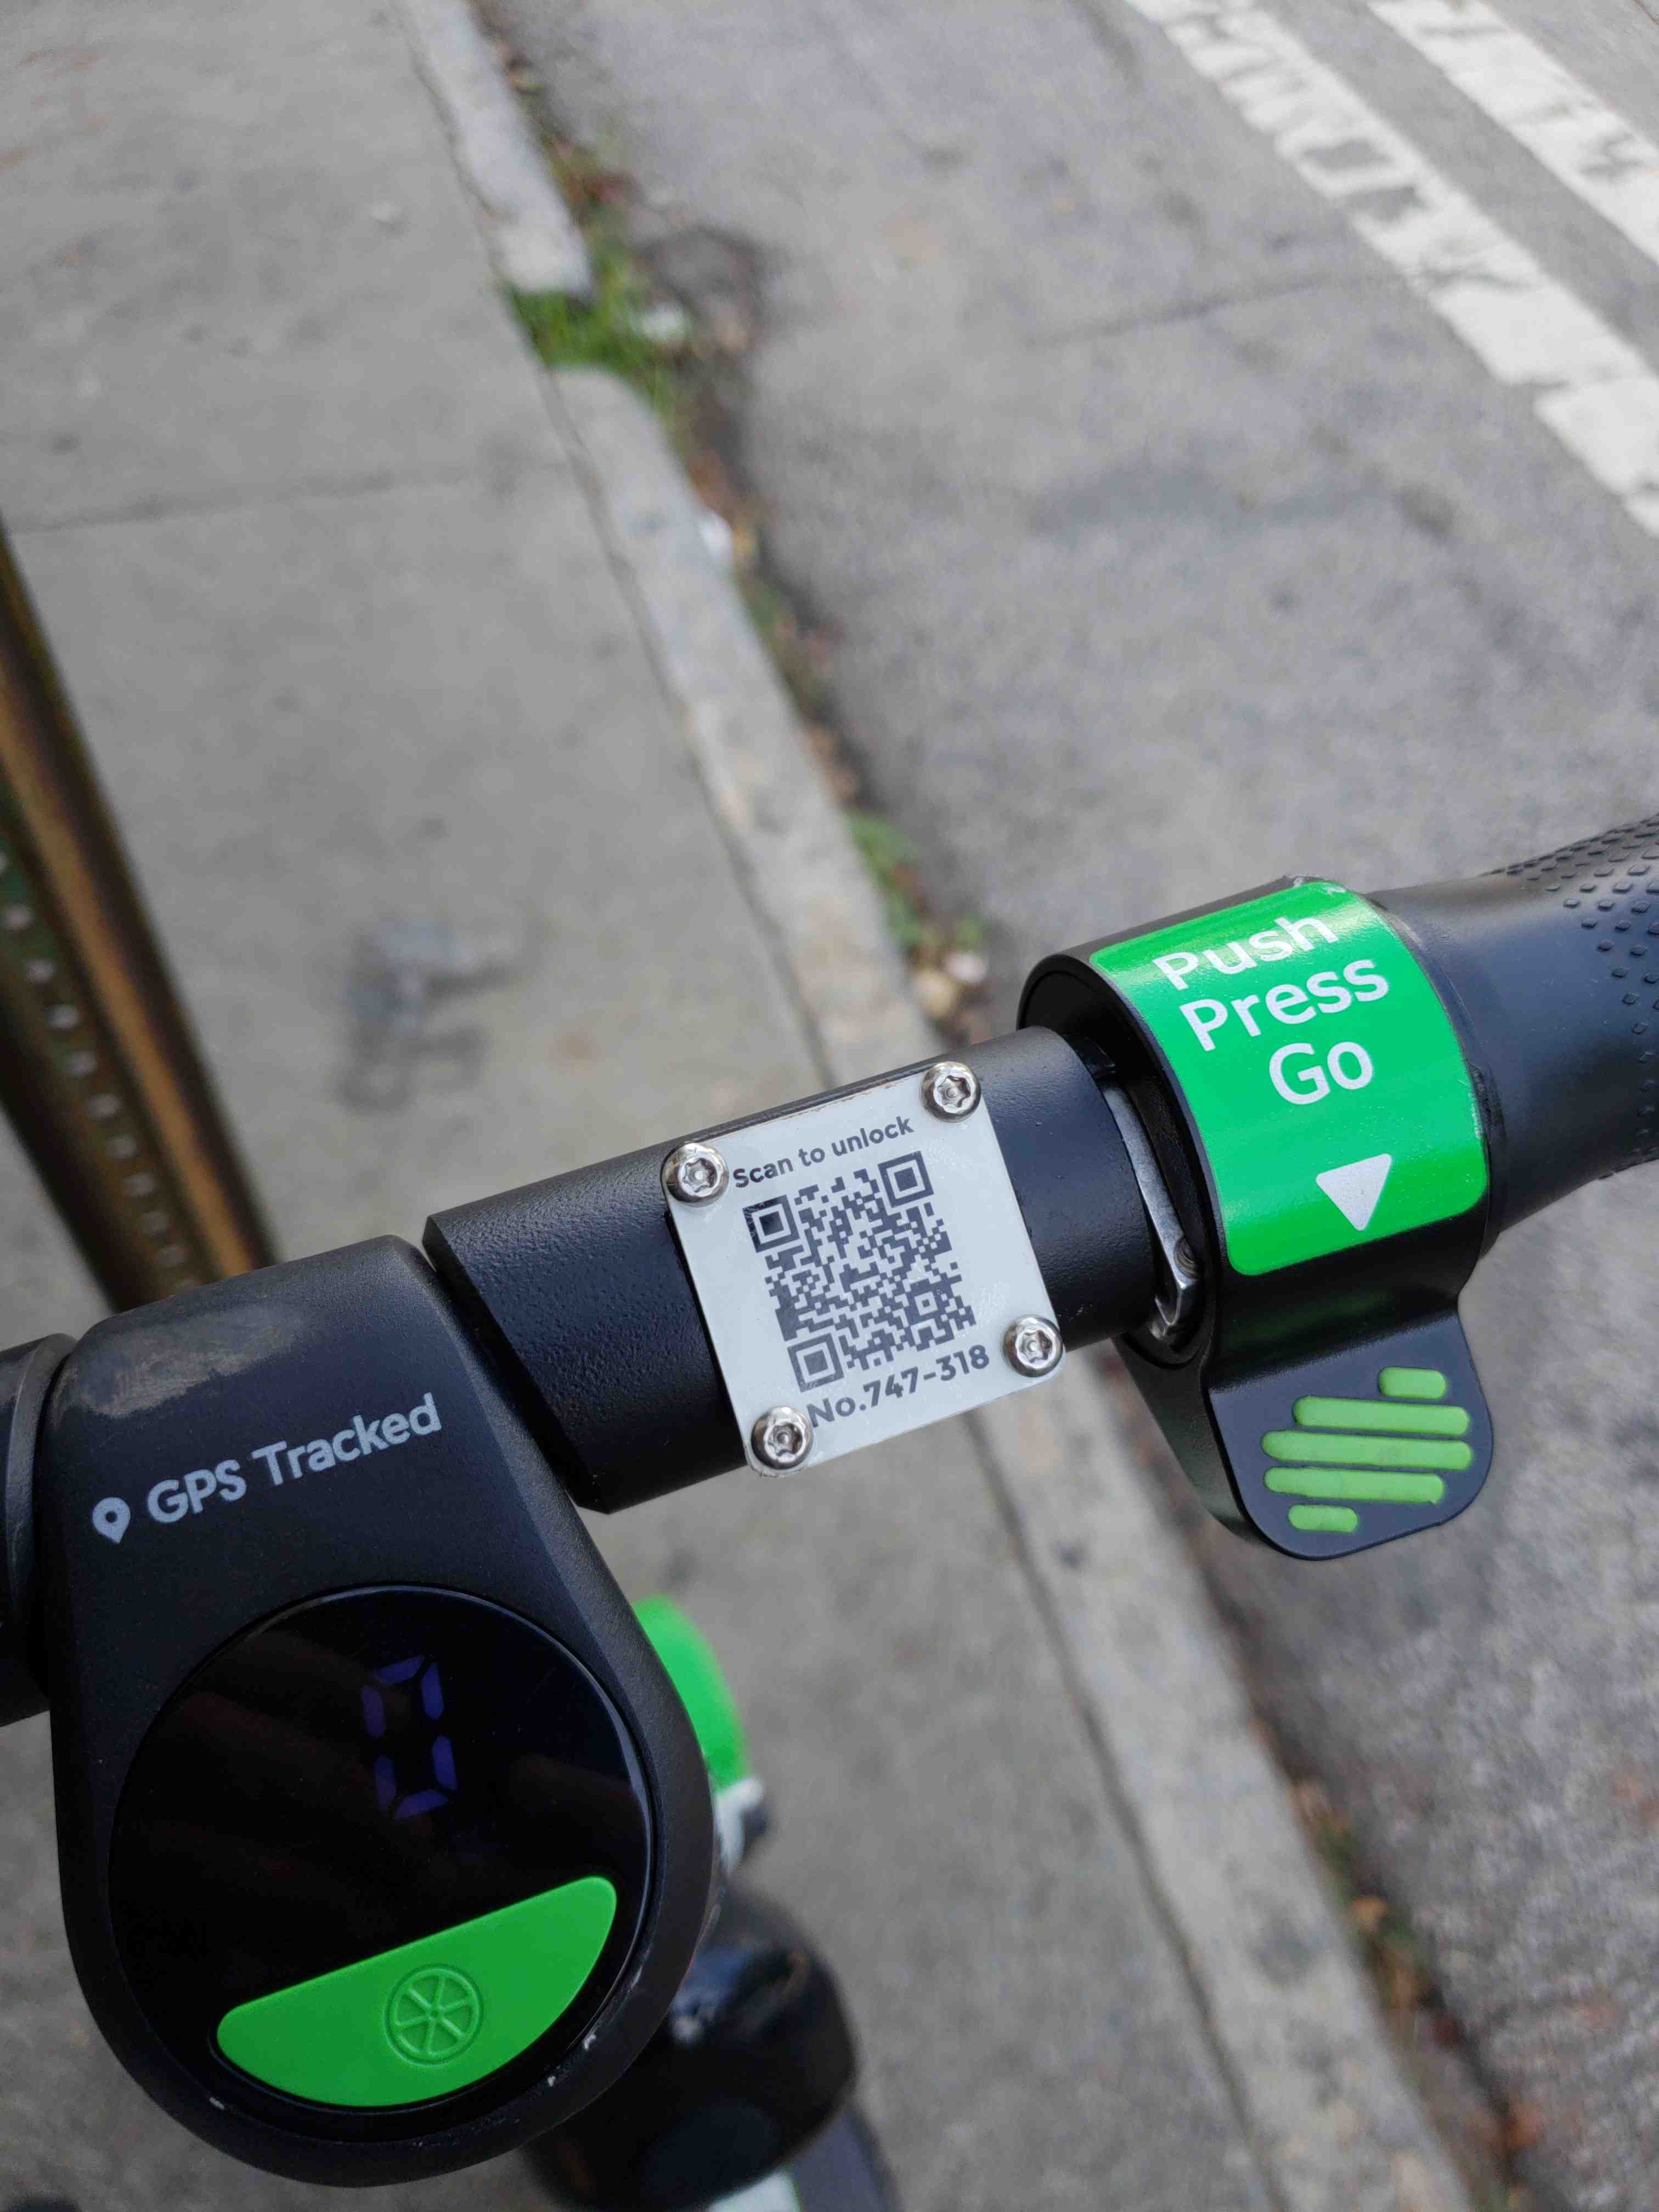scooter: (33, 444, 1608, 2212)
